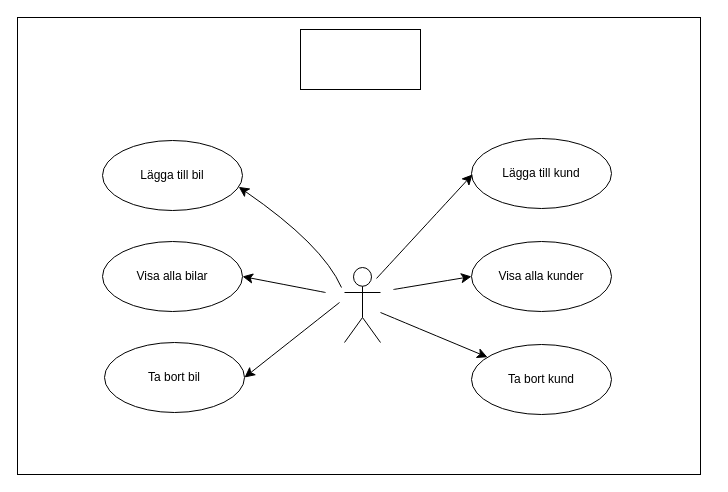
Image size: 728x492. Some labels were removed from this diagram. Each missing label, with the centre of its shape:
"Användare" belongs at point (362, 304).
"Biluthyrningssystem" belongs at point (360, 59).
